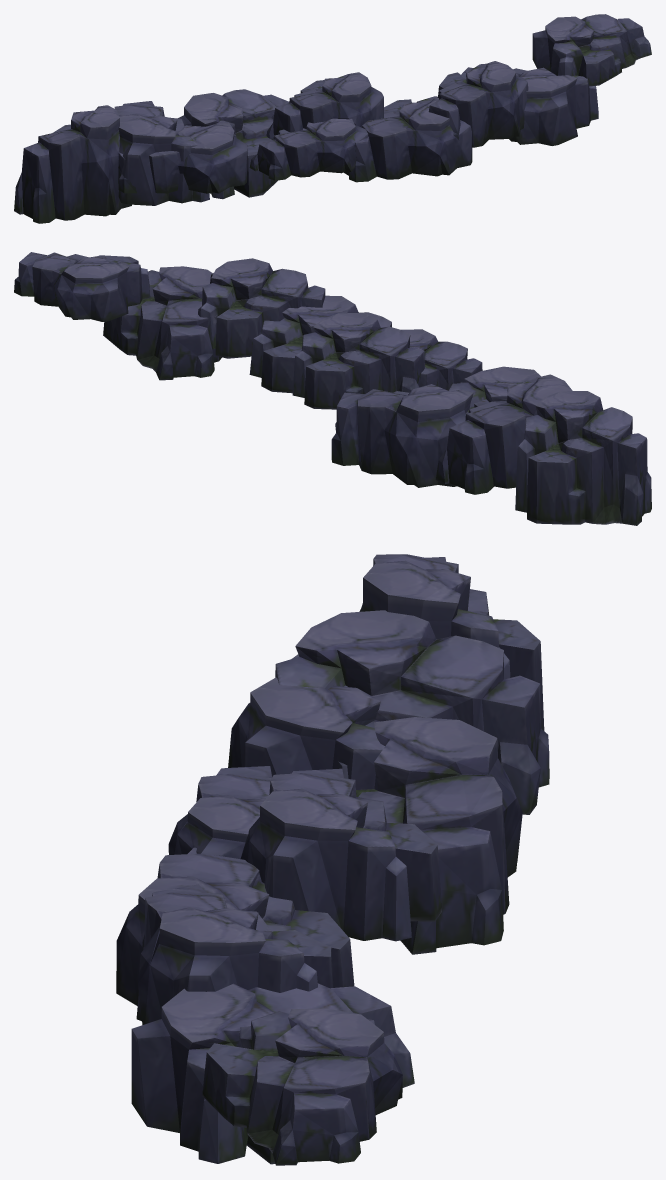
The model's file is Area07_12.fbx.
The picture shows the model from 3 angles, top to bottom: view 1: azimuth 30°, elevation 25°; view 2: azimuth 150°, elevation 25°; view 3: azimuth 270°, elevation 25°; orthographic projection. The views are drawn at different scales.
Visible parts, largest first — view 1: Area07_12; view 2: Area07_12; view 3: Area07_12.
Part boxes in pixels (bbox=[...]): Area07_12: bbox=[14, 14, 651, 223]; Area07_12: bbox=[14, 252, 651, 525]; Area07_12: bbox=[116, 554, 549, 1165].
Size of the model in its own units: 4921 by 686 by 1556.
